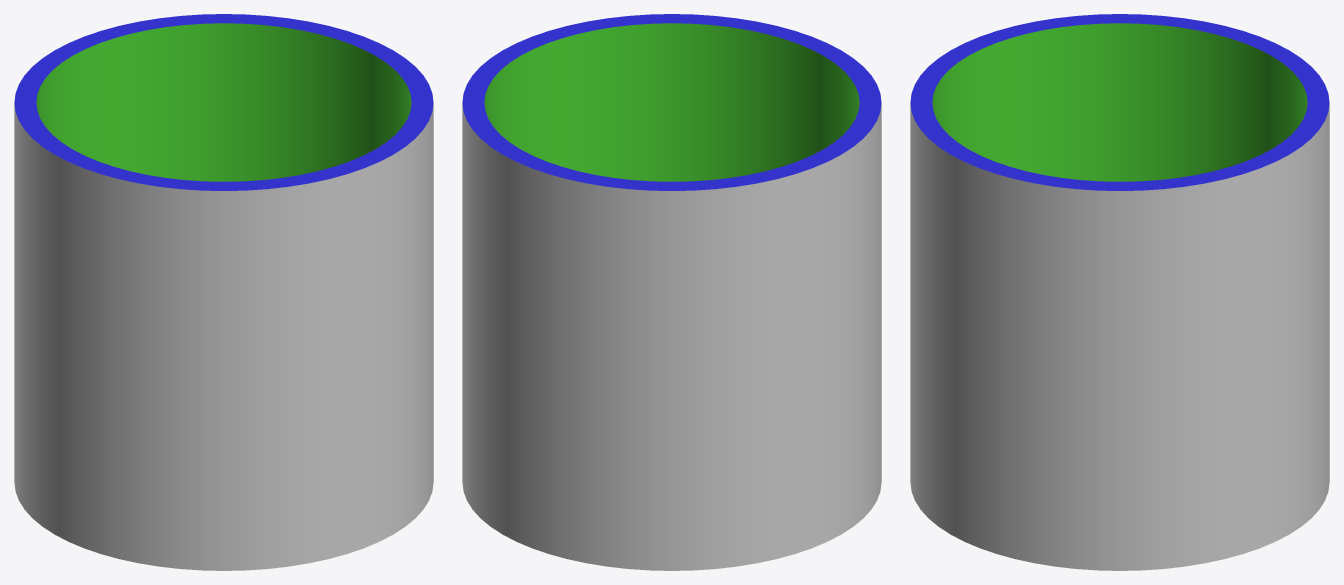
Rendered from TowerCannons 1.fbx.
3 views of the same model, side by side, from view 1: azimuth 30°, elevation 25°; view 2: azimuth 150°, elevation 25°; view 3: azimuth 270°, elevation 25° (orthographic).
Parts seen in each view (by area): view 1: Cylinder; view 2: Cylinder; view 3: Cylinder.
Part boxes in pixels (<box>): Cylinder: <box>14,14,433,570</box>; Cylinder: <box>462,14,881,570</box>; Cylinder: <box>910,14,1329,570</box>.
Size of the model in its own units: 248 by 248 by 248.
